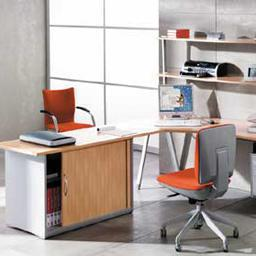Ventana: (49, 3, 158, 150)
